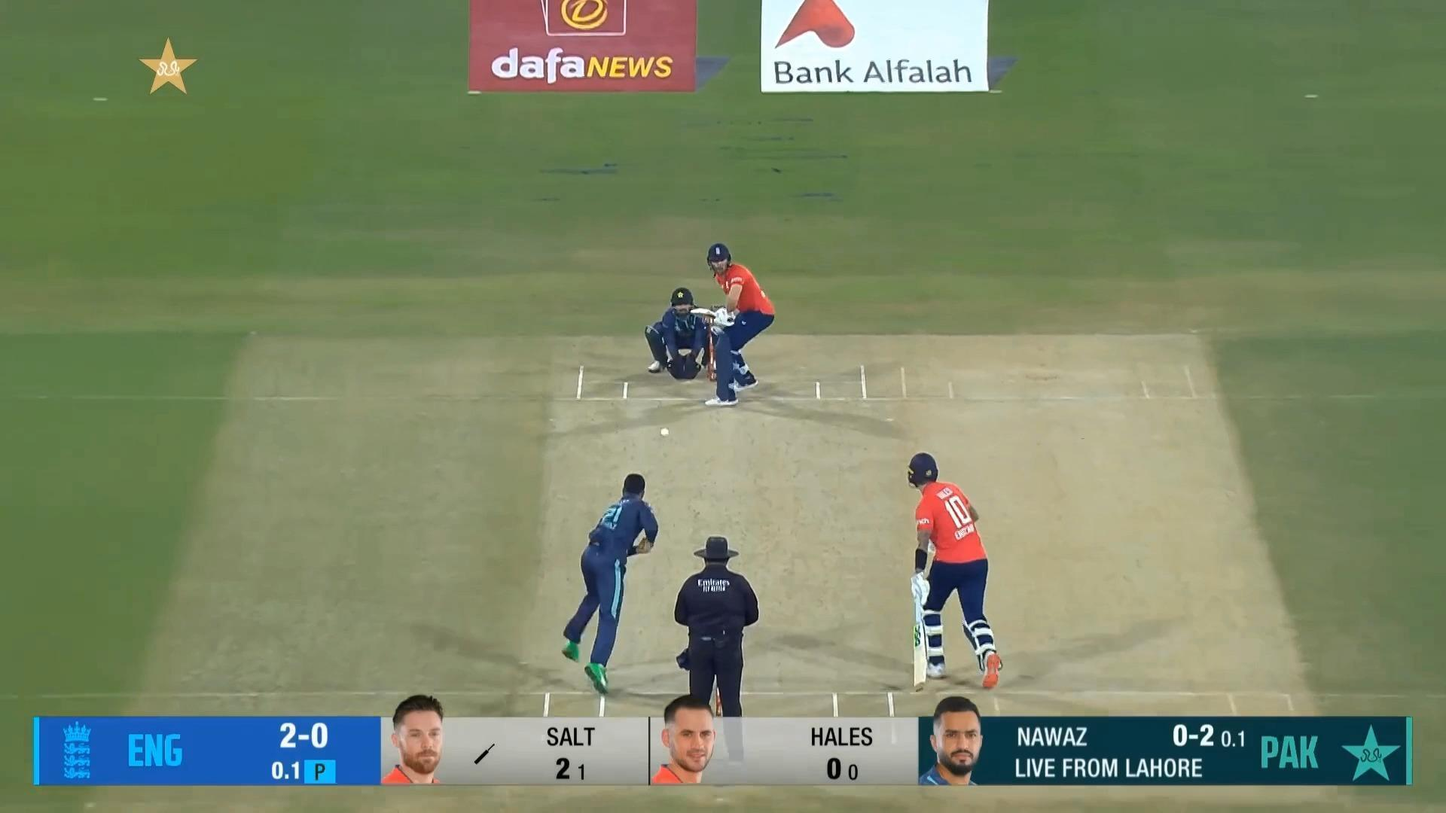BM 1: (690, 242, 776, 408)
BO: (560, 470, 661, 697)
